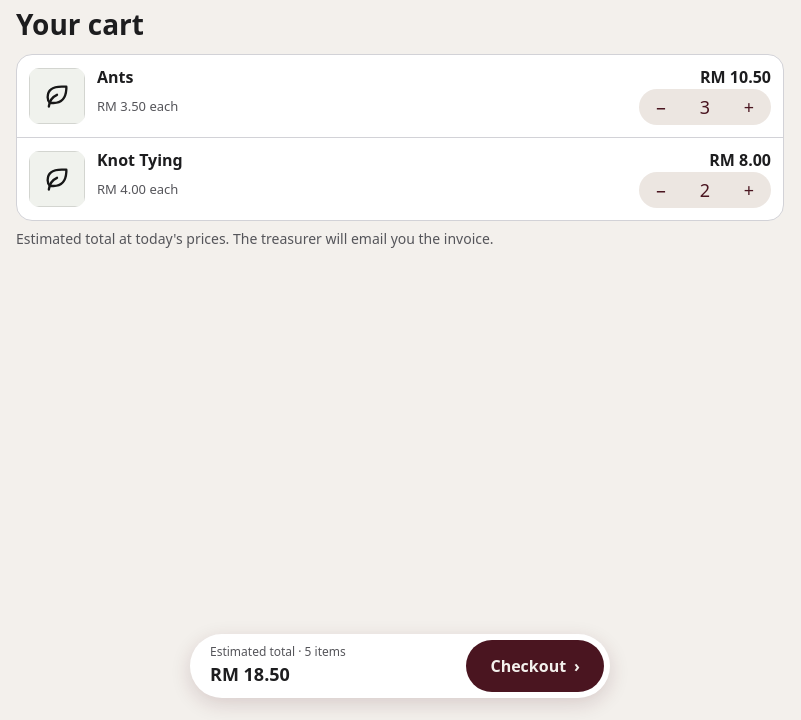
CartScreen removal and Undo › removes a line when 0 is typed and Enter pressed, with the note
Replace the text in the field named "Quantity of Ants" with "0". click: {"x": 705, "y": 107}
box: [683,85,727,129]
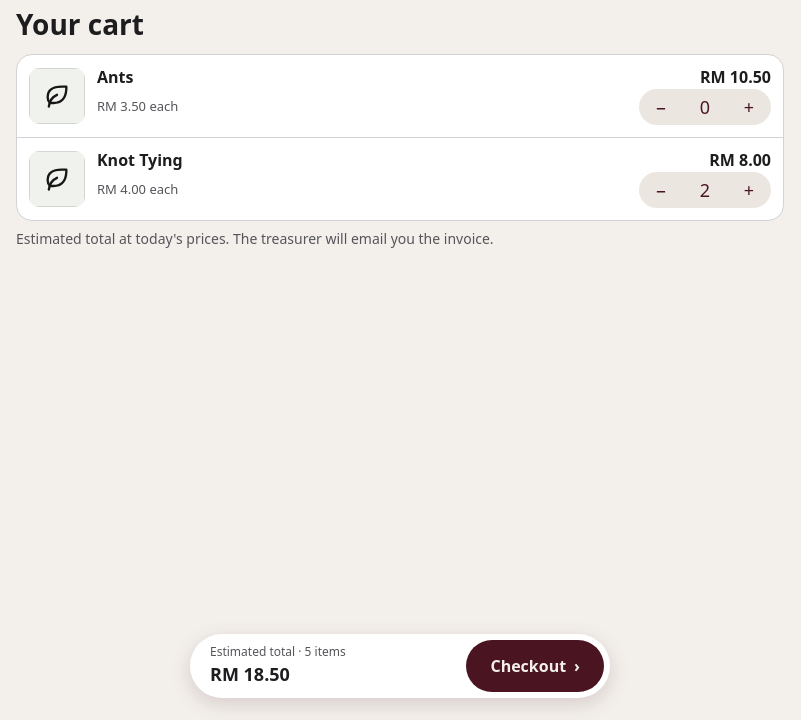
Press Enter in the field named "Quantity of Ants", box [683,85,727,129]
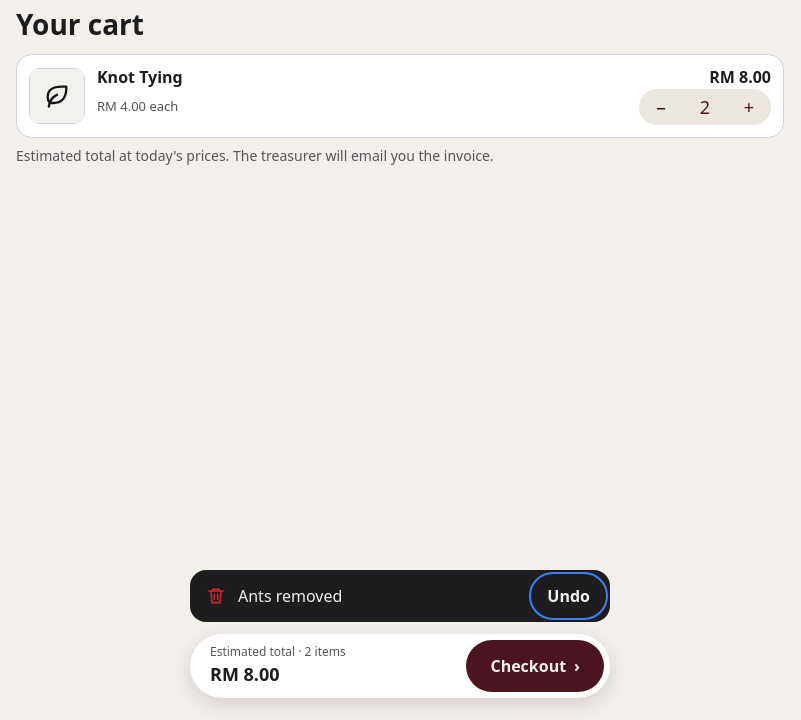
Expected: the button with aria-label "Undo removing Ants" is shown, [531,574,606,618]
